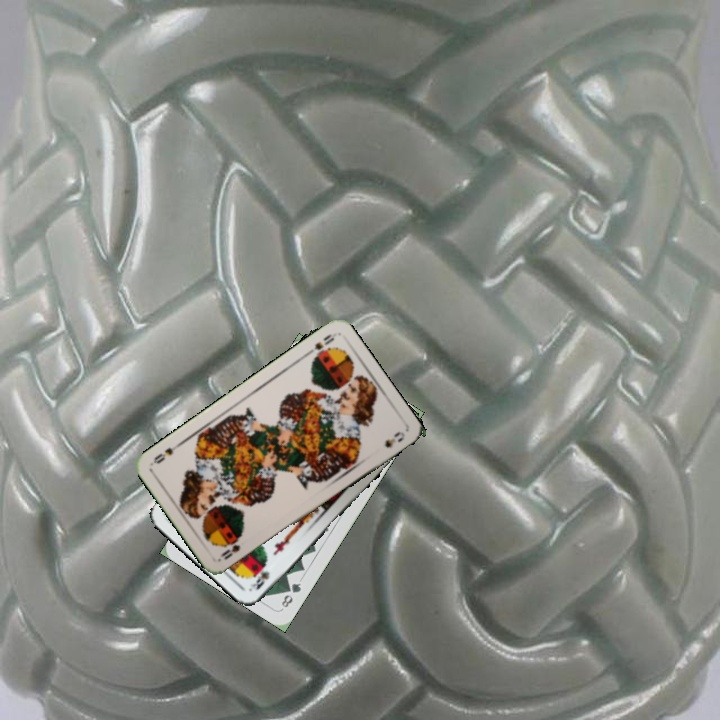G8: (277, 579, 304, 610)
SK: (246, 567, 272, 592)
SO: (302, 330, 337, 361), (217, 540, 243, 562)
